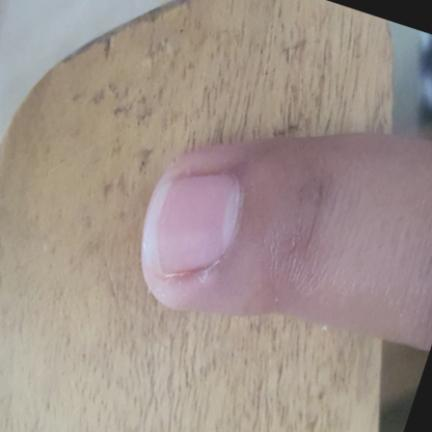Nail: (143, 175, 244, 274)
